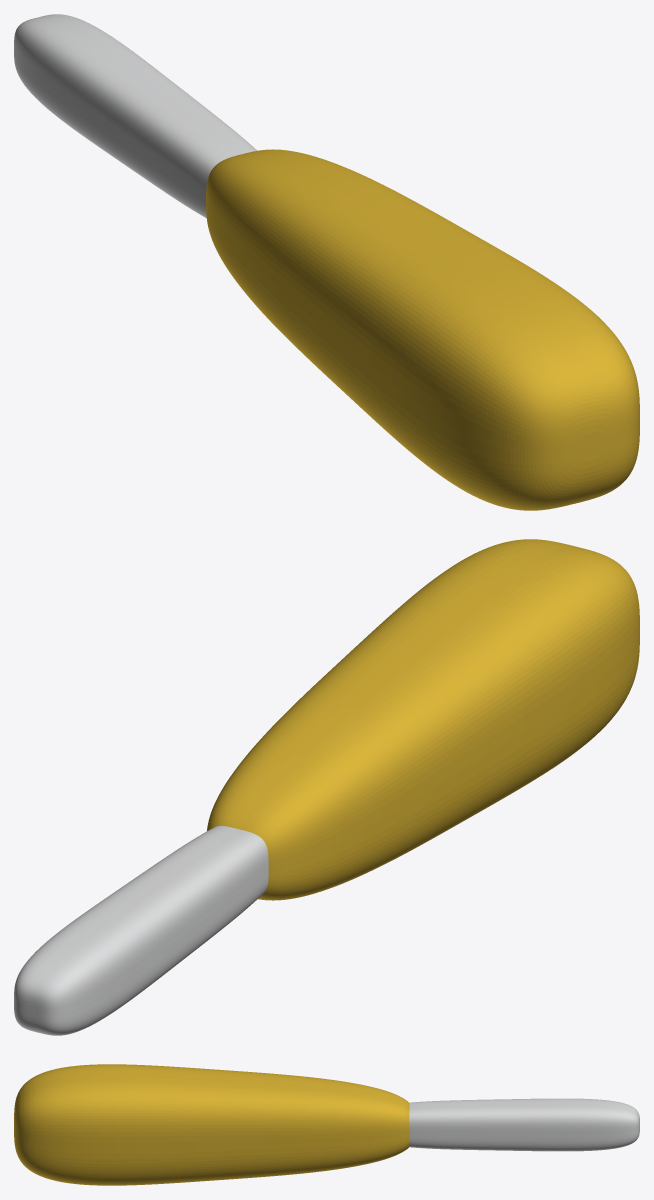
File: wooden_baseball_bat_sq.glb
3 renders of one model, top to bottom at view 1: azimuth 30°, elevation 25°; view 2: azimuth 150°, elevation 25°; view 3: azimuth 270°, elevation 25°, orthographic. The views are drawn at different scales.
Visible parts, largest first — view 1: superquadric_0, superquadric_1; view 2: superquadric_0, superquadric_1; view 3: superquadric_0, superquadric_1.
Part boxes in pixels (x1,y1,x2,y2): superquadric_0: (206,149,639,510); superquadric_1: (14,14,257,218); superquadric_0: (207,539,639,900); superquadric_1: (14,826,268,1035); superquadric_0: (14,1064,409,1185); superquadric_1: (409,1098,639,1151).
Size of the model in its own units: 0.1757 by 0.1757 by 1.
